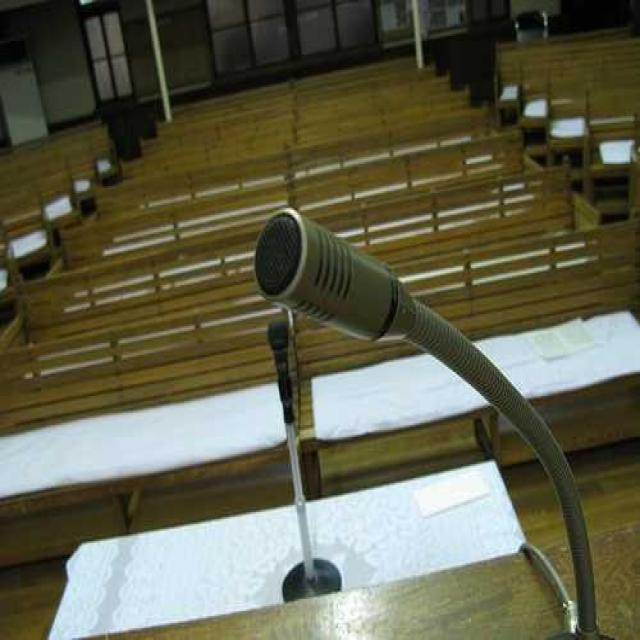microphone: (254, 210, 402, 344)
